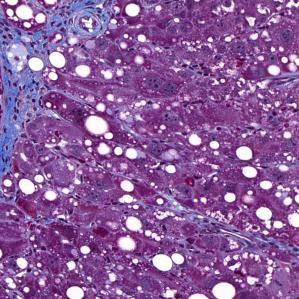fibrosis: (4, 13, 54, 145)
